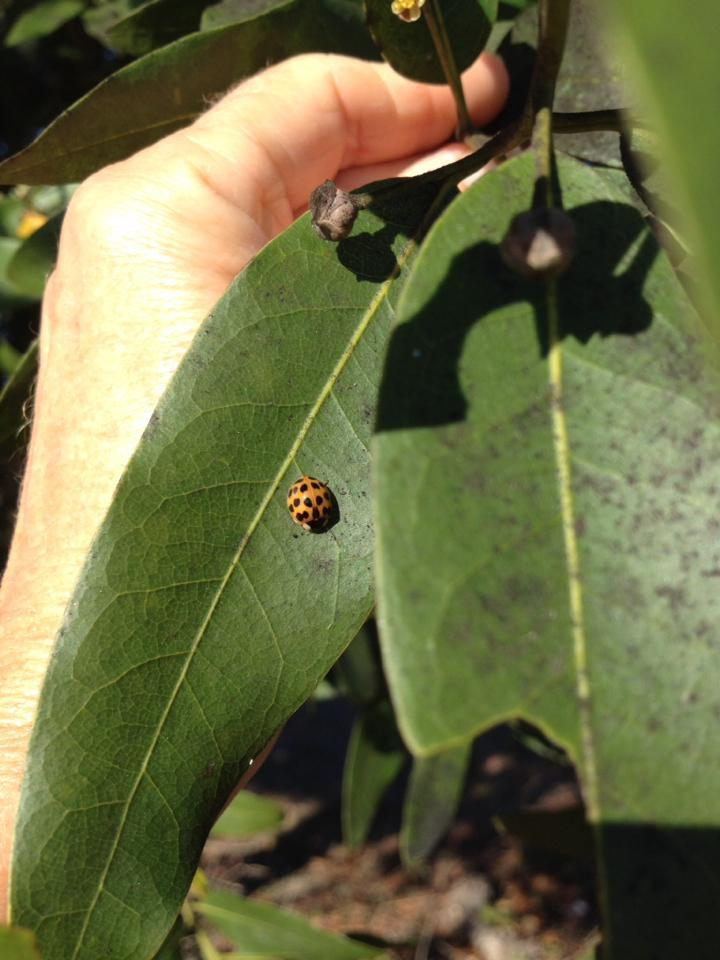ladybug: (284, 474, 346, 539)
